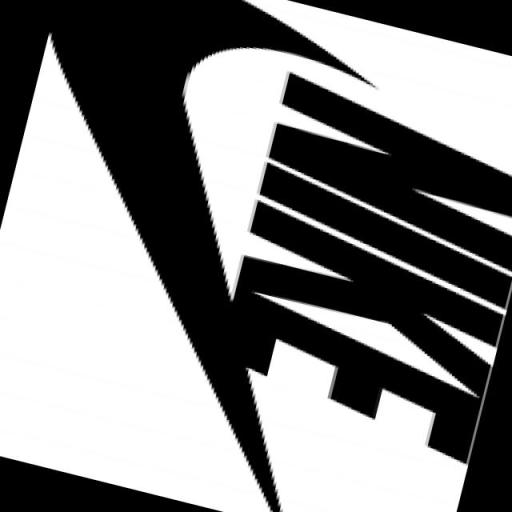Nike: (0, 0, 370, 465), (202, 70, 512, 468)
